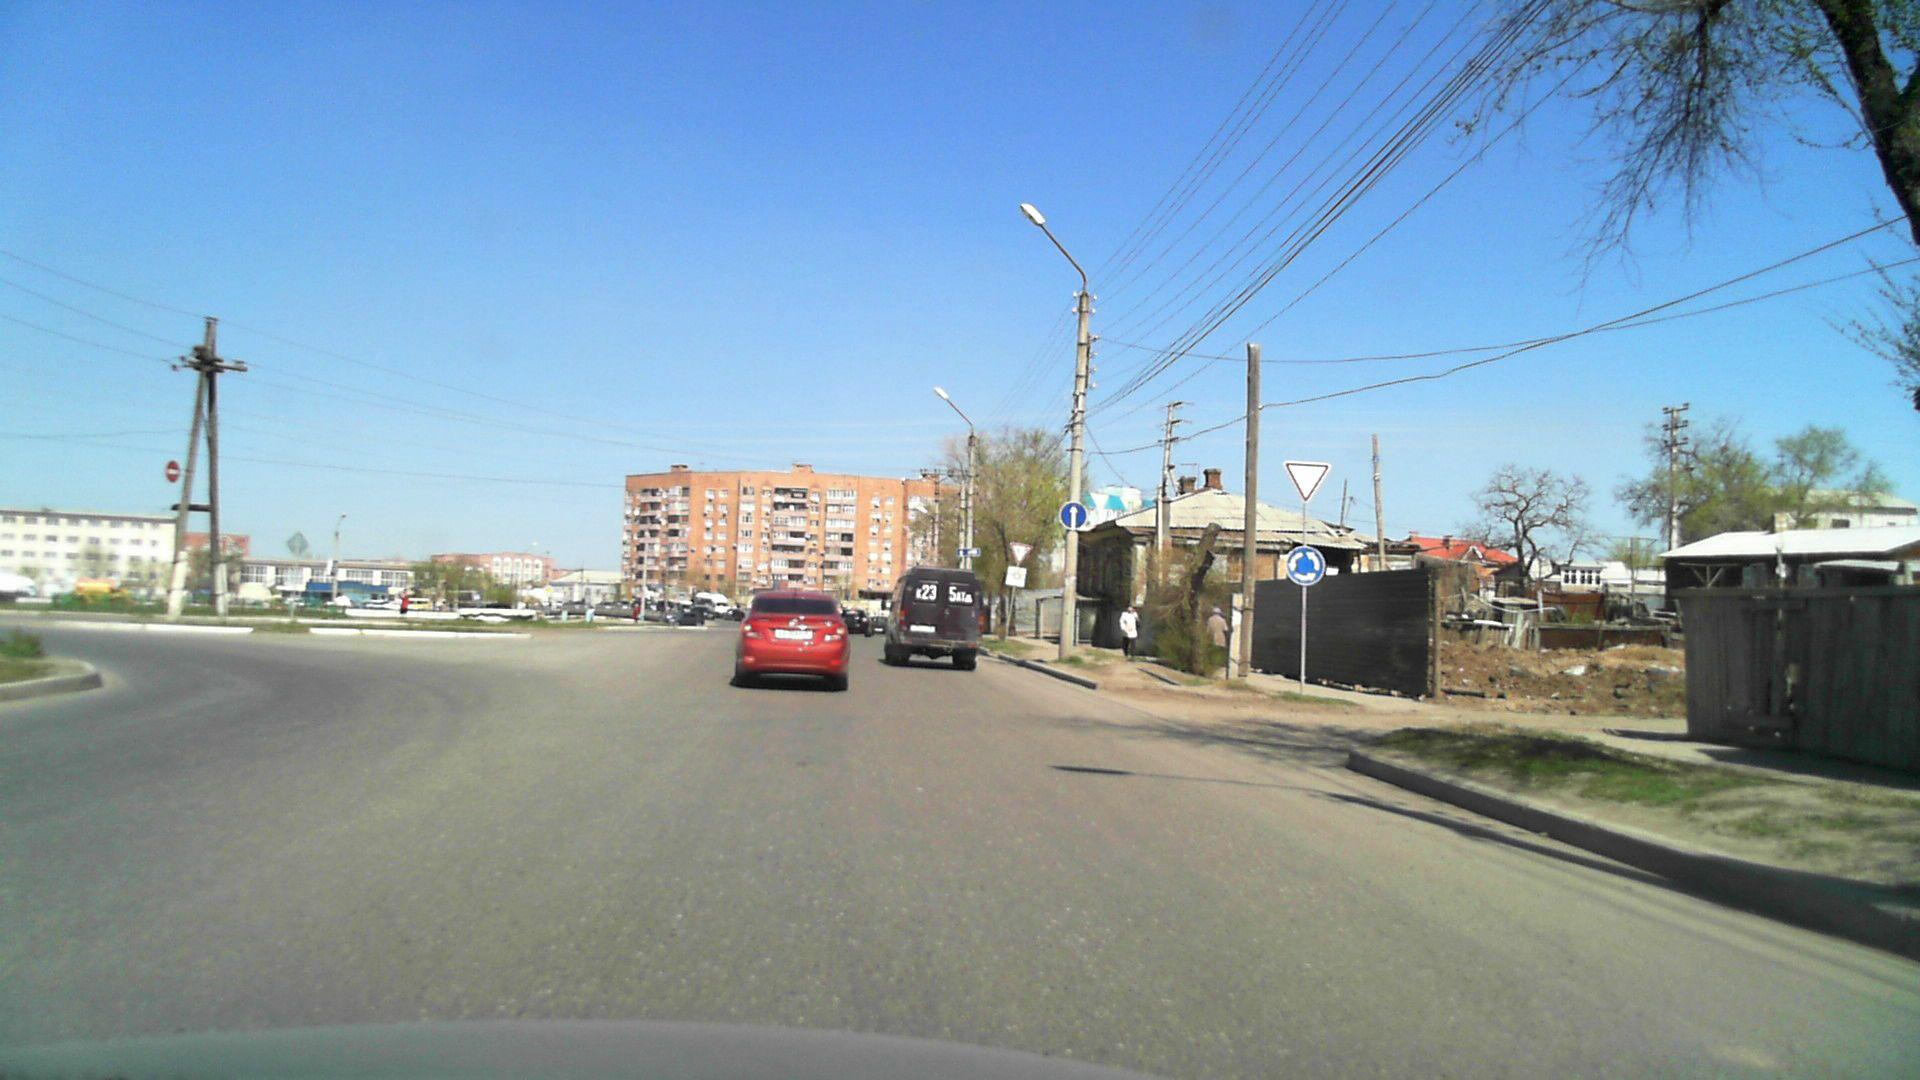2_4: (1284, 459, 1329, 505), (1007, 541, 1033, 563)
3_1: (164, 460, 182, 483)
4_1_1: (1058, 501, 1088, 530)
4_3: (1284, 542, 1328, 588)
6_15_1: (957, 547, 981, 558)
8_13: (1004, 566, 1027, 588)
